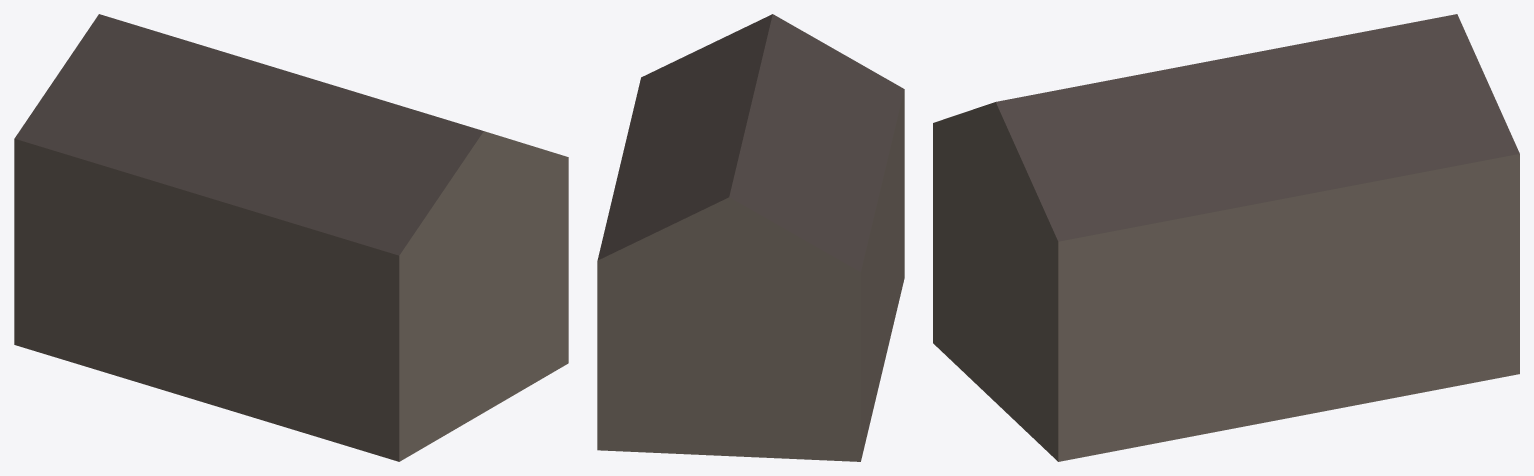
The picture shows the model from 3 angles, left to right: view 1: azimuth 30°, elevation 25°; view 2: azimuth 150°, elevation 25°; view 3: azimuth 270°, elevation 25°; orthographic projection. The views are drawn at different scales.
Parts seen in each view (by area): view 1: HP-w293412328; view 2: HP-w293412328; view 3: HP-w293412328.
Boxes of the visible parts, bbox=[...] form: HP-w293412328: bbox=[14, 14, 568, 461]; HP-w293412328: bbox=[597, 14, 904, 461]; HP-w293412328: bbox=[933, 14, 1519, 461].
Bounding box in the file's own units: 12.07 × 8.19 × 14.49.
